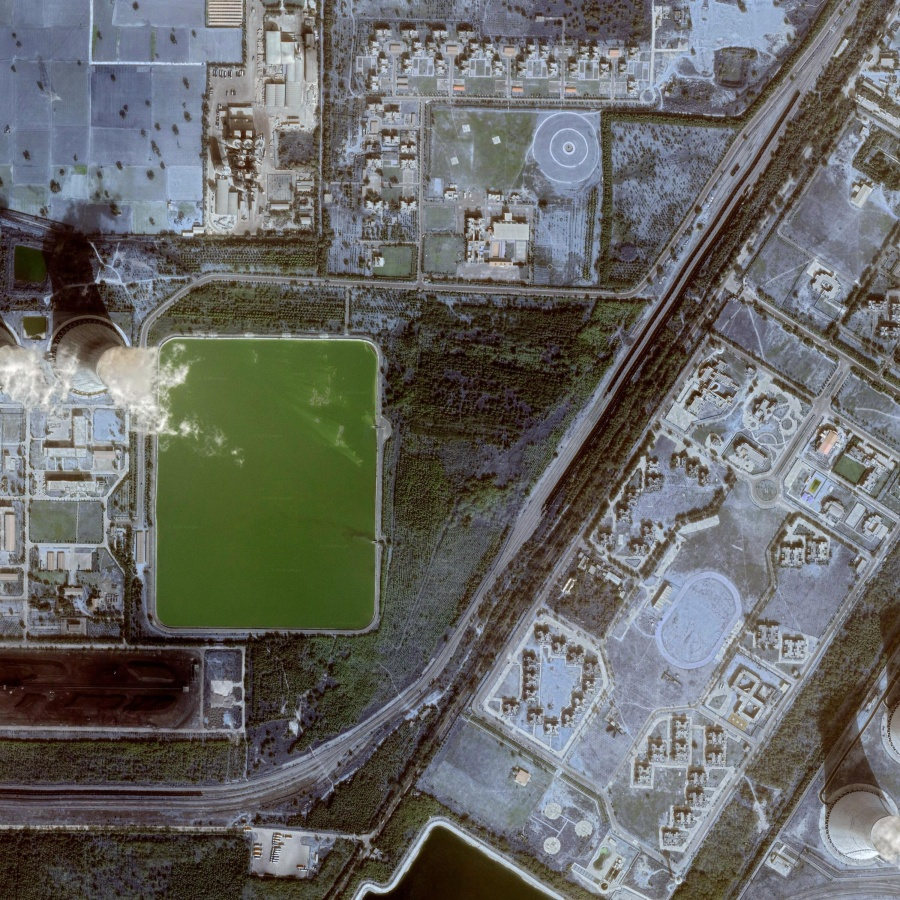PowerPlant: (3, 226, 370, 741)
